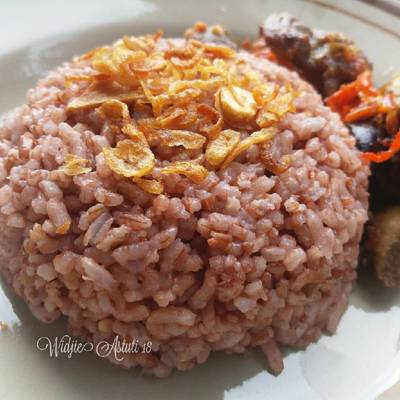Nasi Merah: (1, 24, 377, 375)
